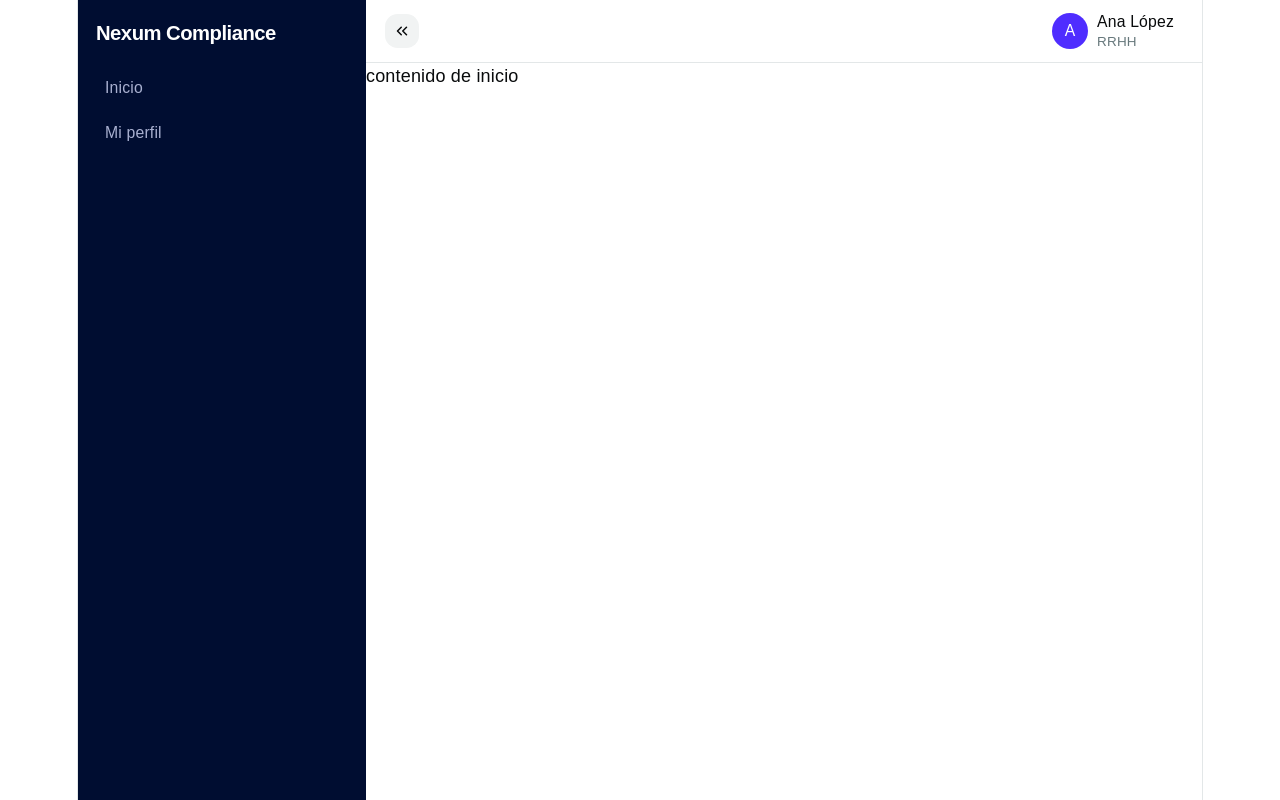
Test: AppShell › el toggle de colapso (escritorio) expone aria-expanded y alterna
Click the button named "Colapsar menú".
click(402, 31)  # box [384, 13, 420, 49]
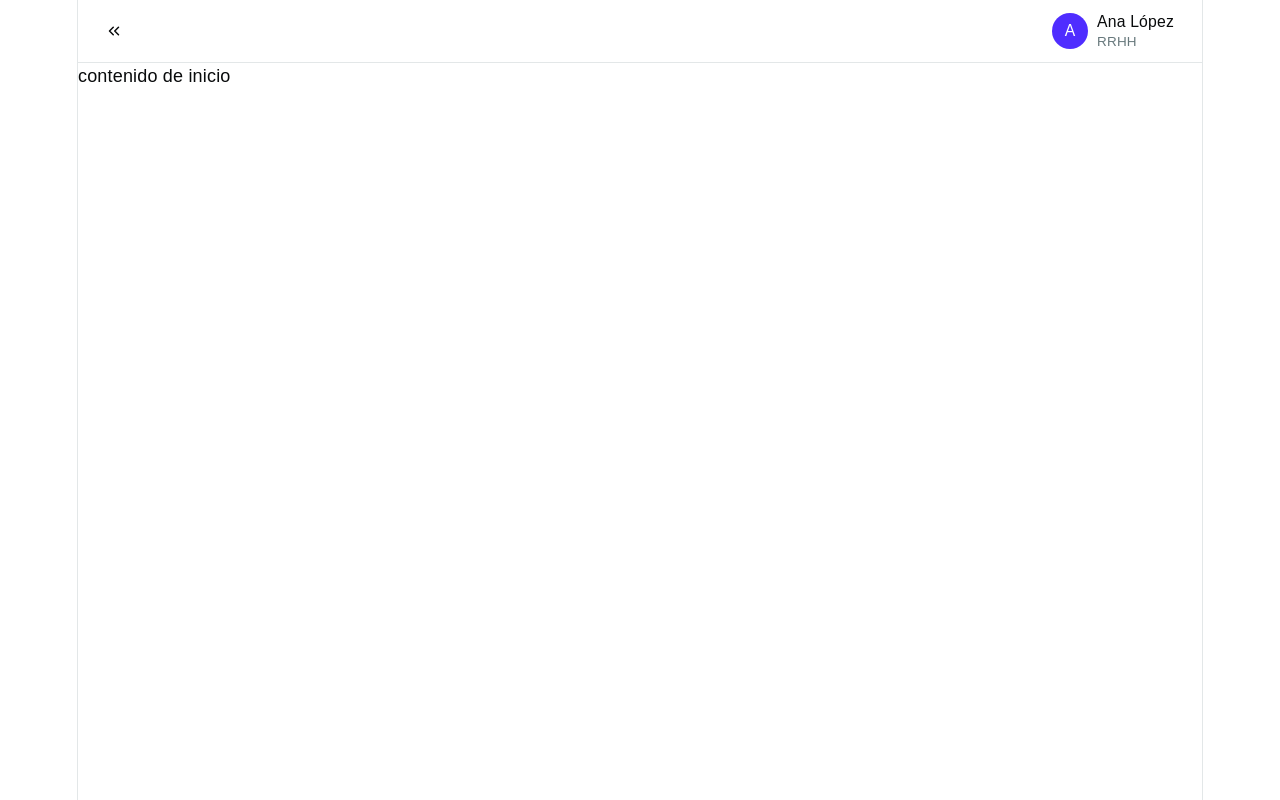
Result: the button named "Expandir menú" is collapsed at [96, 13, 132, 49]
